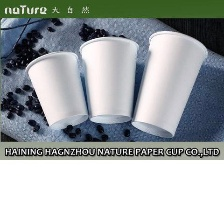paper_cup: (127, 25, 210, 141), (75, 32, 142, 127), (20, 46, 92, 132)
